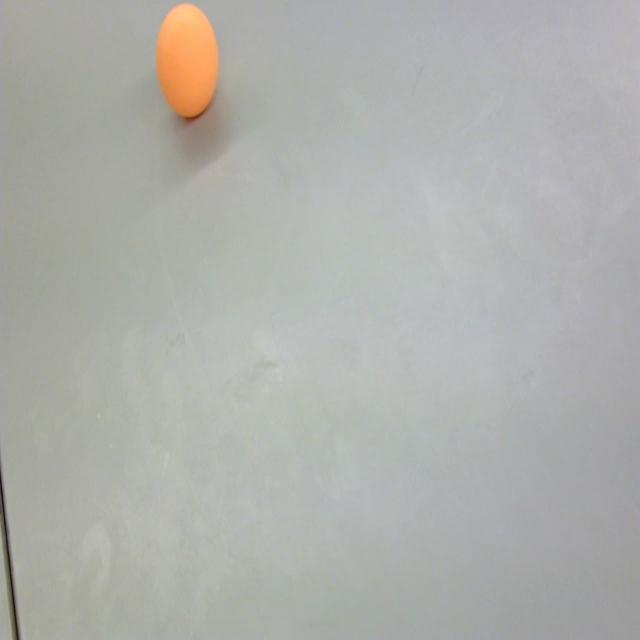ball: (155, 1, 219, 120)
